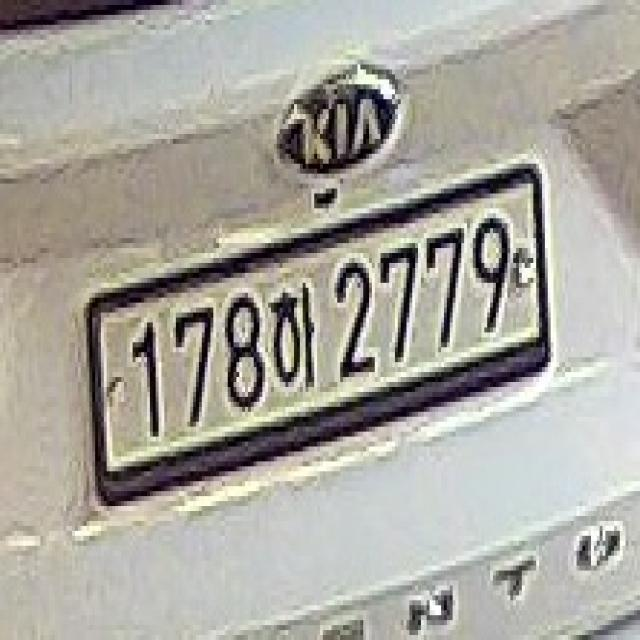plat: (84, 155, 554, 509)
